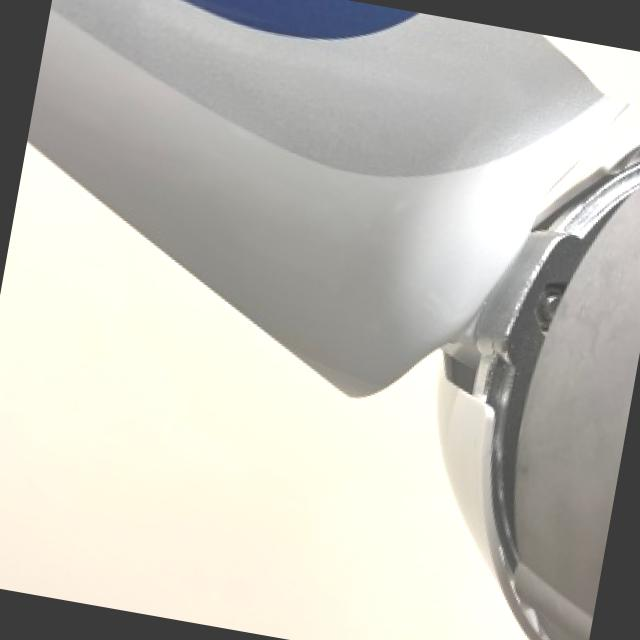healthy: (0, 145, 524, 640)
